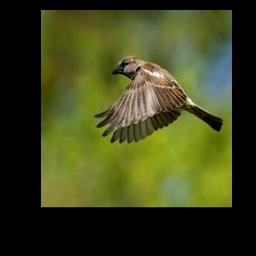Sparrow: (94, 56, 223, 143)
